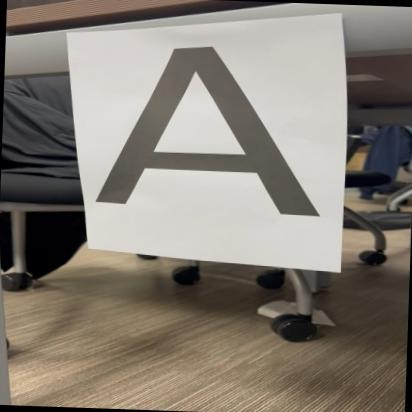seat: (100, 39, 337, 221)
